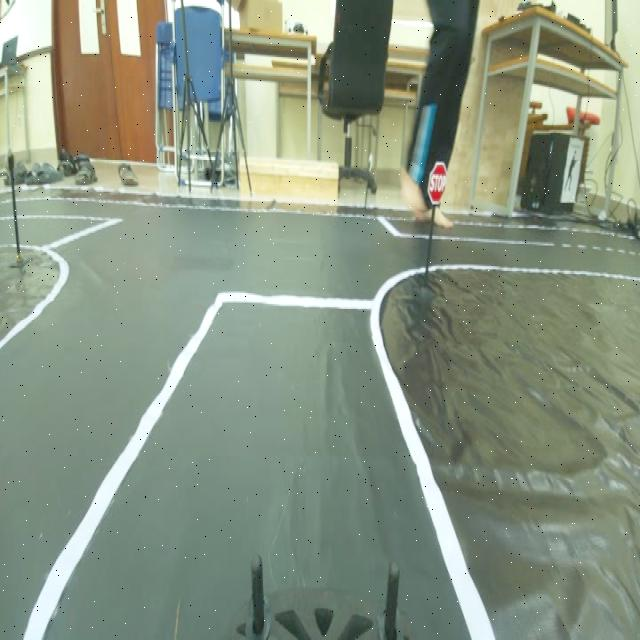stop: (427, 154, 447, 217)
